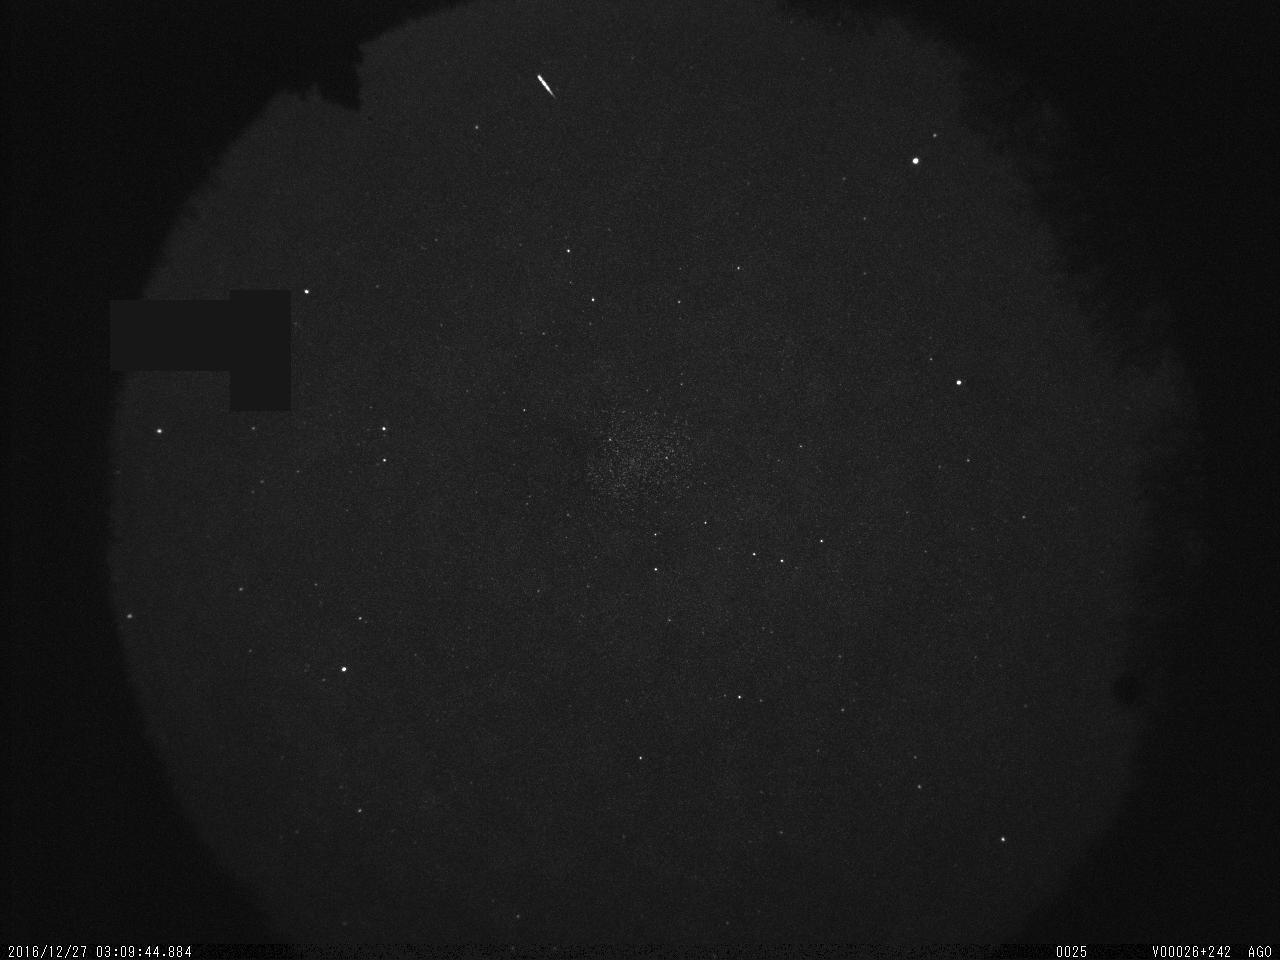meteor: (533, 67, 562, 106)
